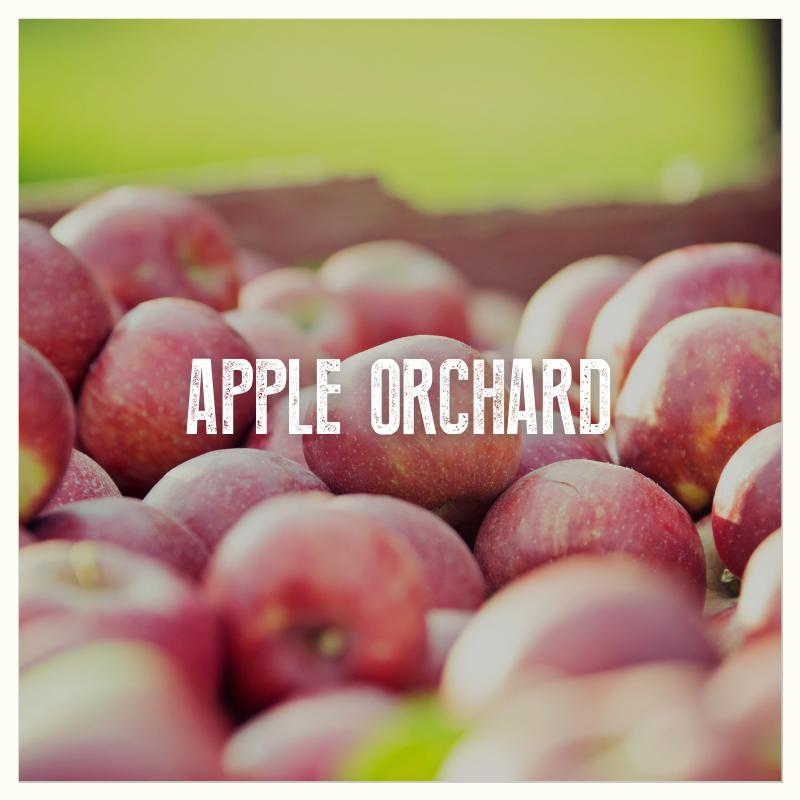apple: (204, 494, 489, 716), (300, 330, 526, 513), (598, 303, 788, 512), (473, 455, 707, 614), (583, 237, 780, 392), (52, 183, 245, 318), (9, 210, 116, 394), (708, 425, 791, 603)
